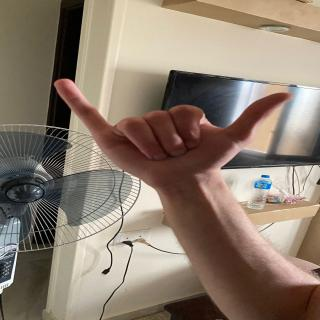YA: (49, 67, 298, 178)
